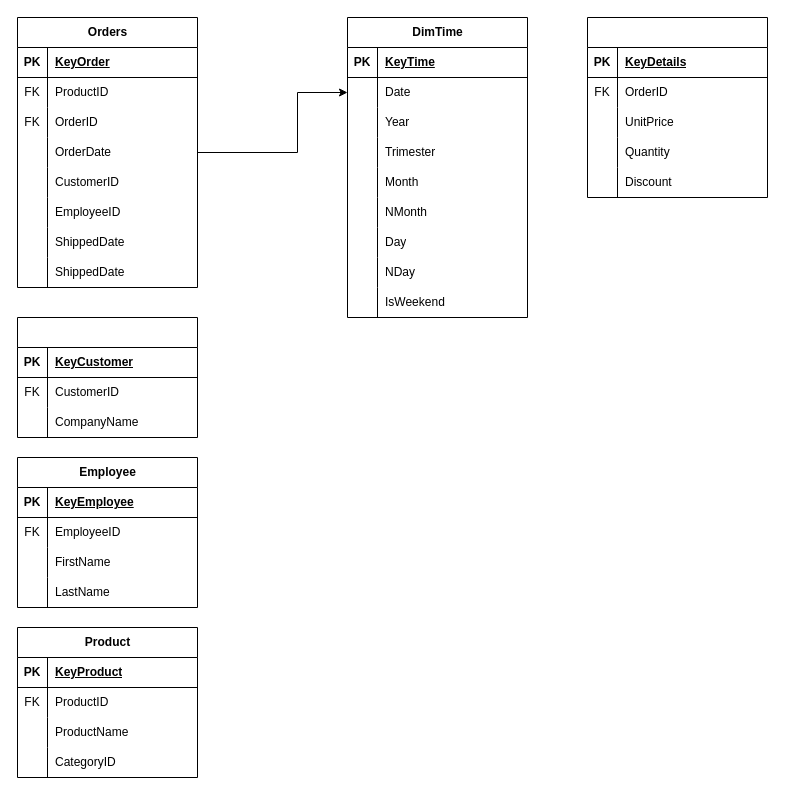
This 785x795 diagram has some shape labels left out. The shapes that lost their labels are listed below. From the top down, each one's box as (x1, y1, x2, y2) in pixels, then its label:
(586, 16, 768, 198): OrdersDetails
(16, 316, 198, 438): Customers
